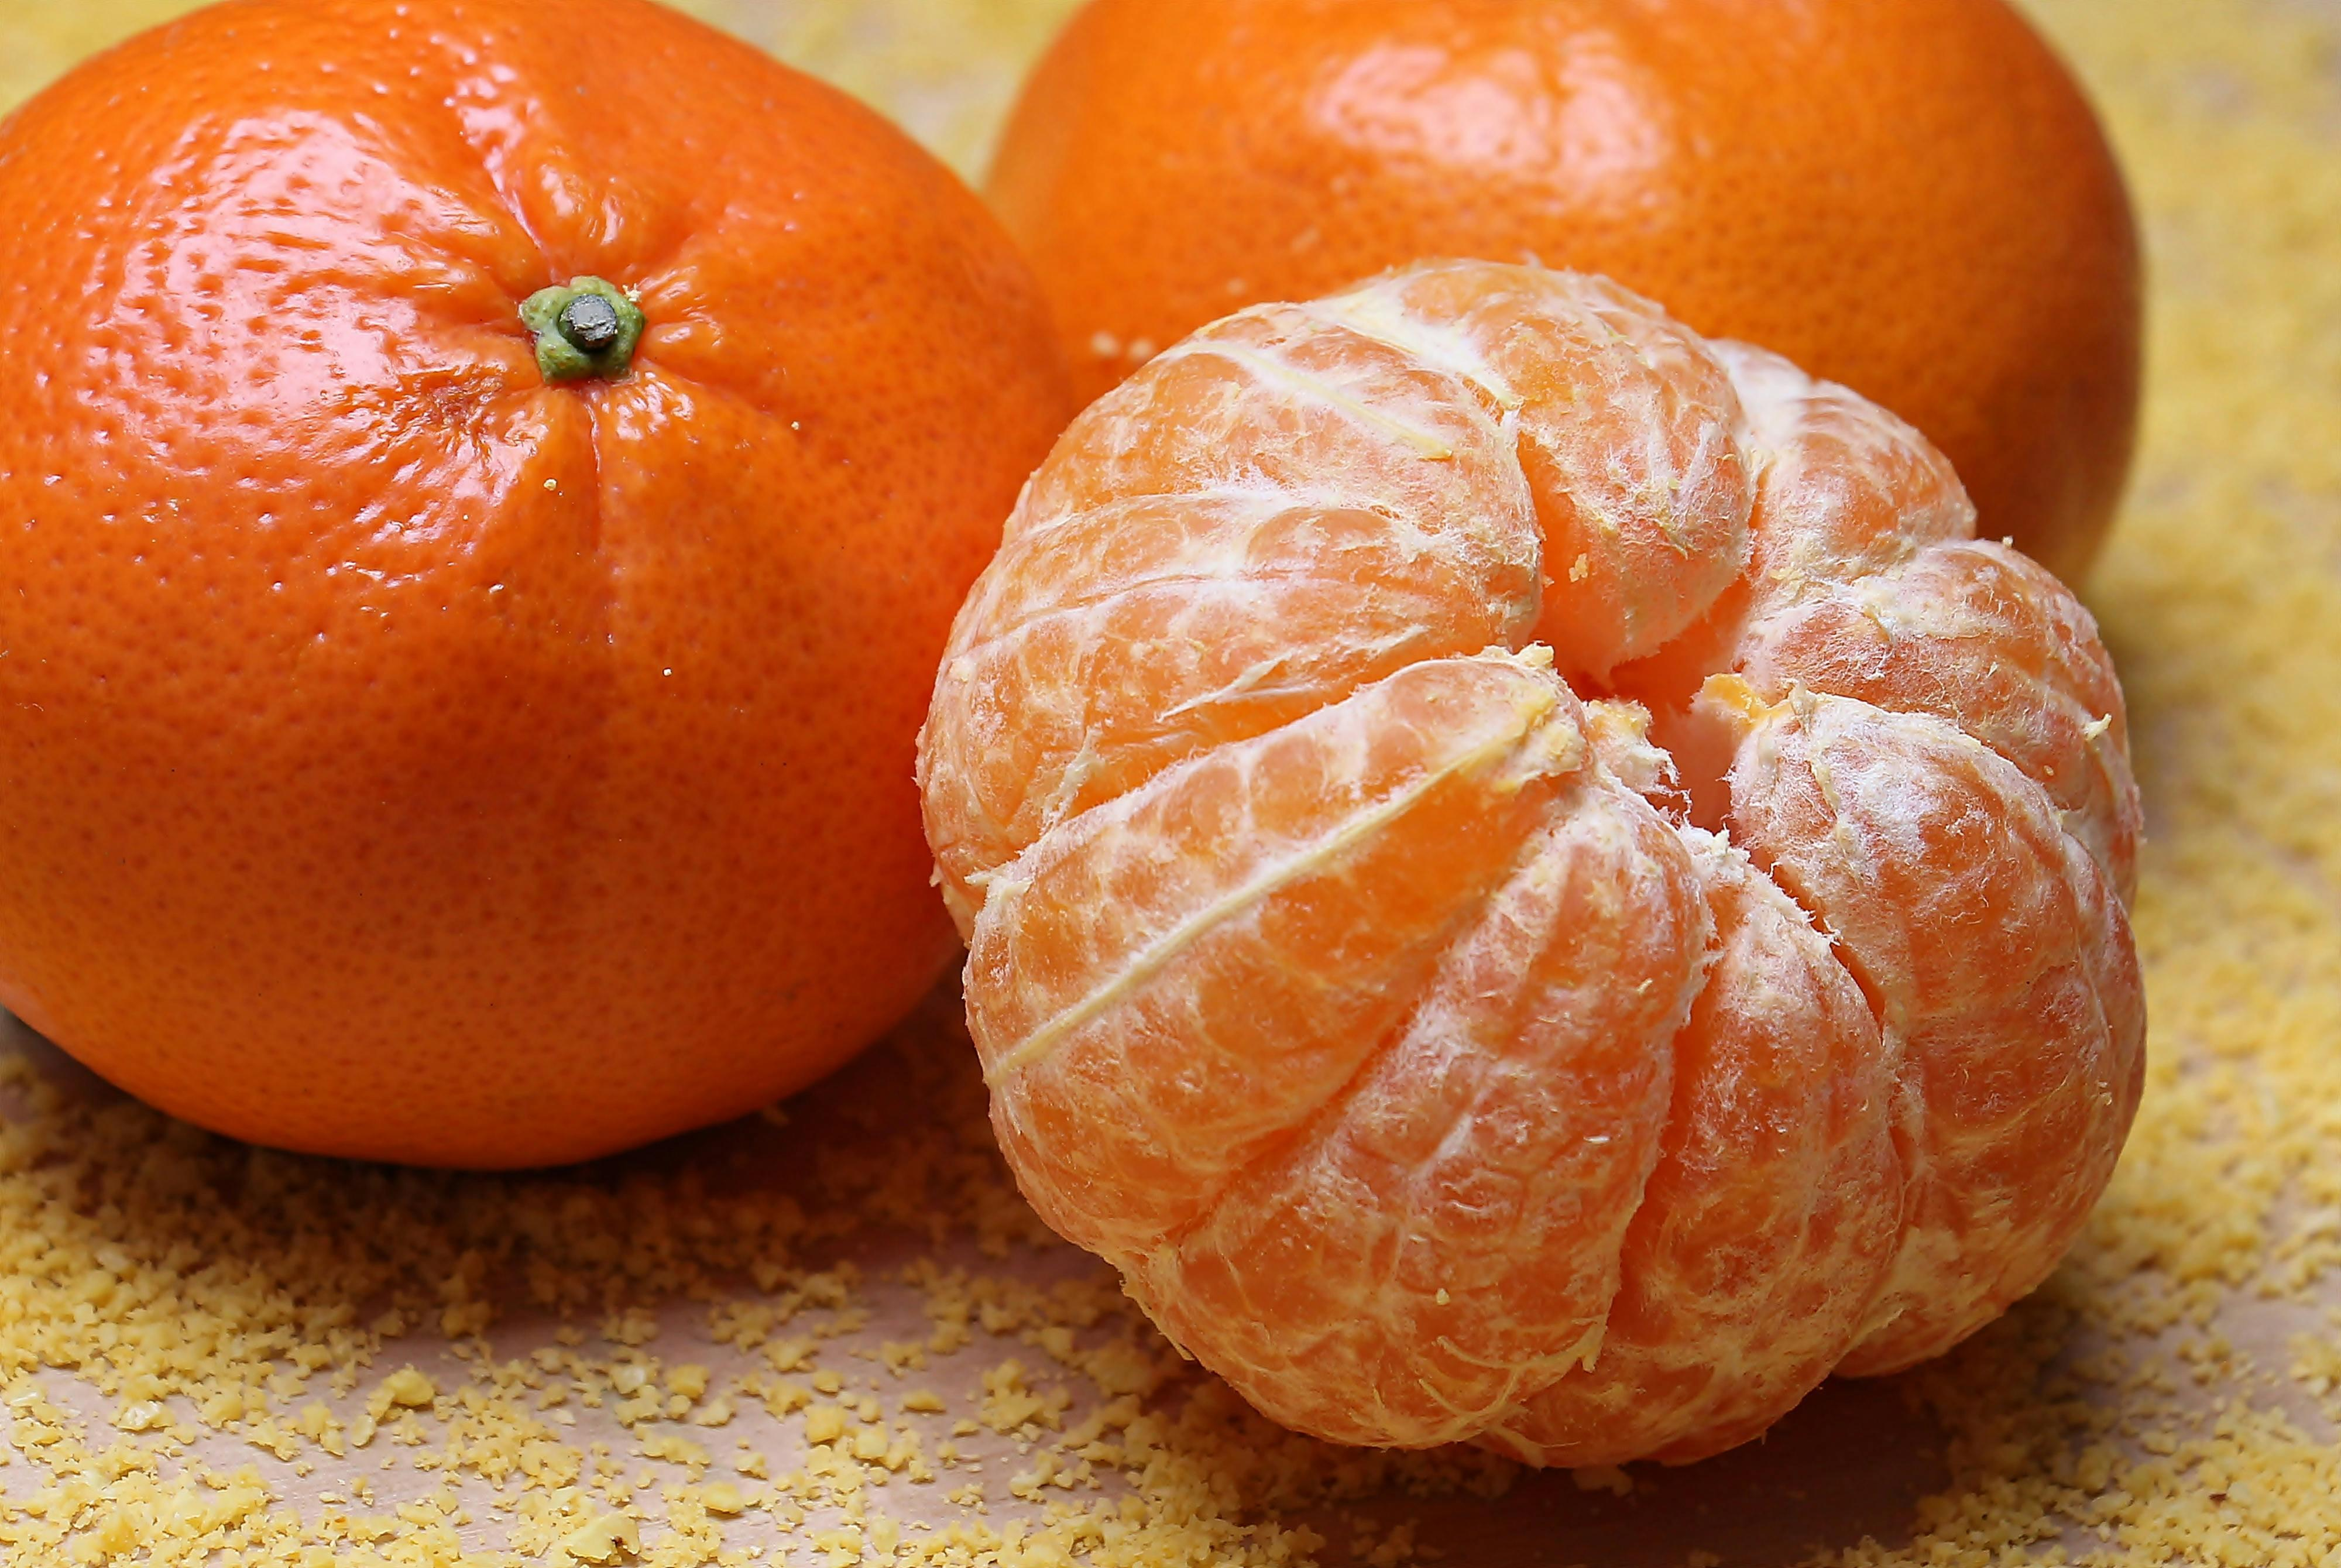non-mango: (901, 240, 2212, 1481), (878, 0, 2306, 907), (5, 5, 983, 1230)
